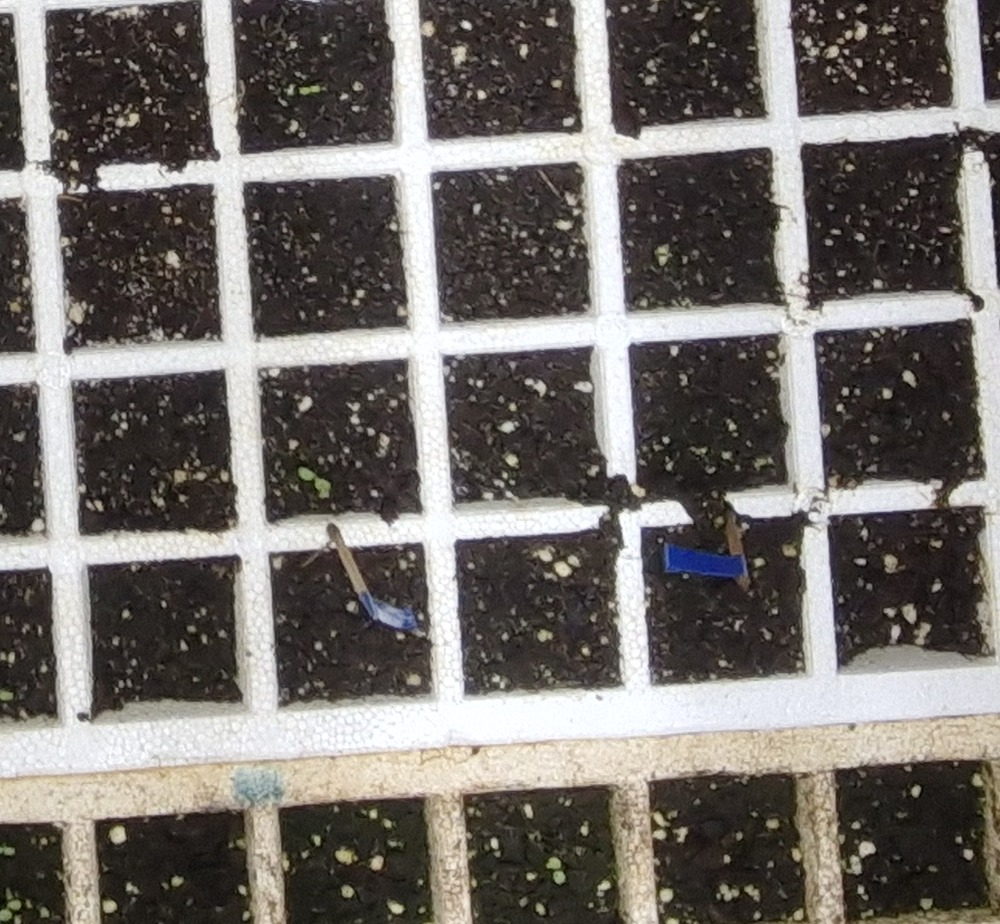Folha: (299, 467, 315, 480), (315, 479, 331, 491), (0, 690, 13, 701)
Germinacao: (298, 467, 330, 492), (0, 689, 13, 705), (300, 86, 320, 94)
